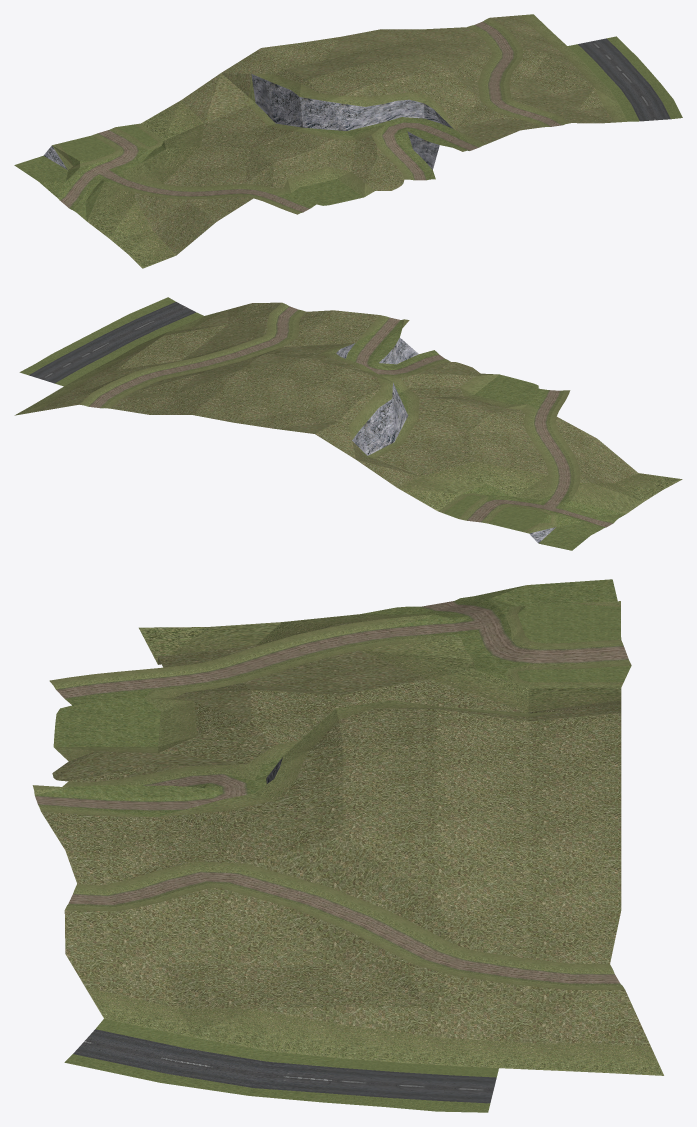
Rendered from sw_bit_15.obj.
3 renders of one model, top to bottom at view 1: azimuth 30°, elevation 25°; view 2: azimuth 150°, elevation 25°; view 3: azimuth 270°, elevation 25°, orthographic. The views are drawn at different scales.
Visible parts, largest first — view 1: sw_bit_15; view 2: sw_bit_15; view 3: sw_bit_15.
Boxes of the visible parts, x1,y1,x2,y2 form: sw_bit_15: (14,14,682,268); sw_bit_15: (14,297,682,550); sw_bit_15: (32,579,663,1112).
Size of the model in its own units: 251 by 32.96 by 120.
10 materials, 10 textured.
